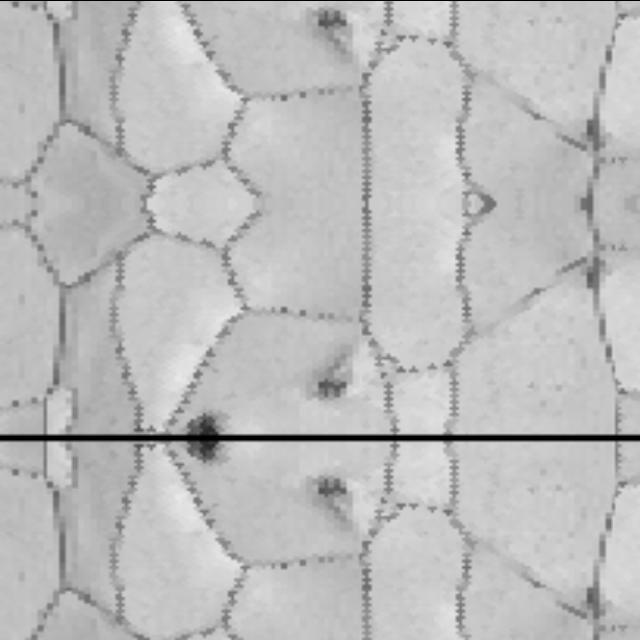good_void: (303, 338, 356, 400), (303, 4, 356, 66), (303, 473, 356, 534), (183, 411, 224, 433), (183, 440, 224, 461), (580, 257, 601, 291), (580, 113, 601, 147), (580, 581, 601, 615)
